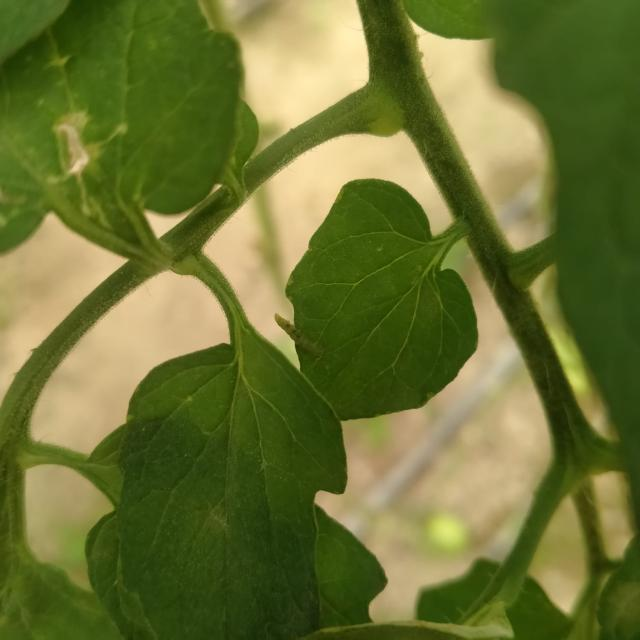Larvae: (275, 314, 322, 358)
